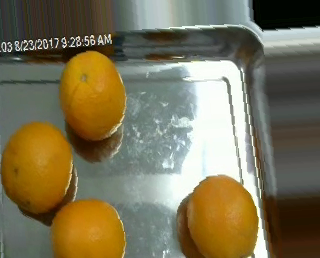Orange: (2, 121, 74, 213), (185, 174, 258, 257), (58, 50, 125, 140), (51, 199, 125, 258)
